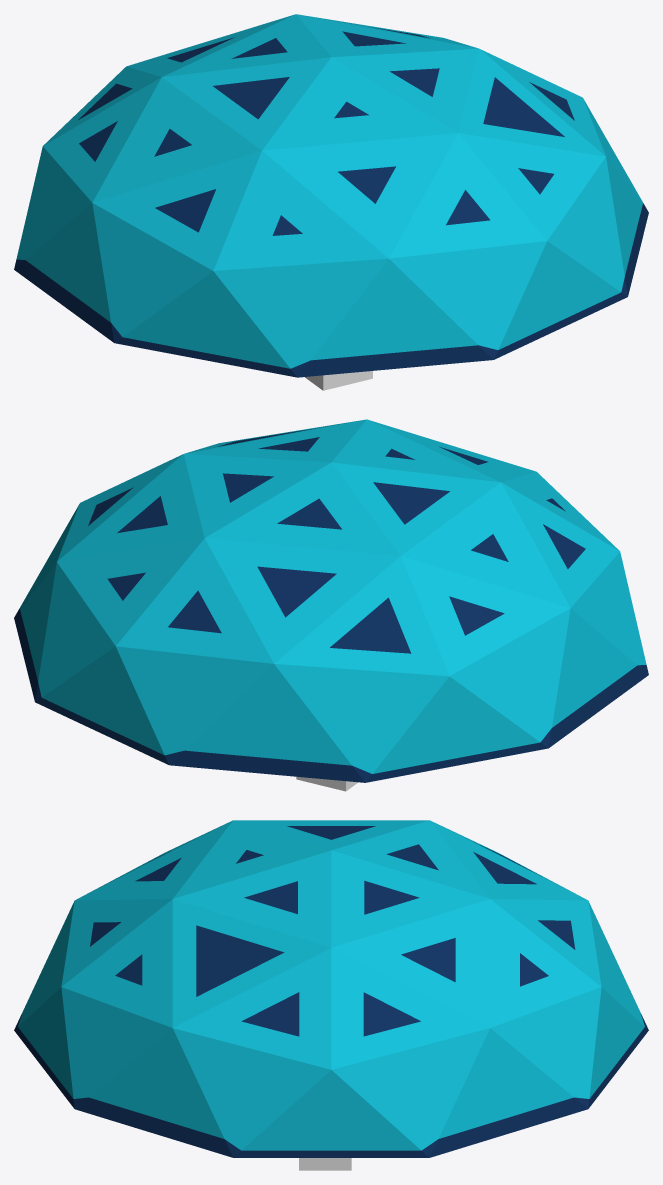
Rendered from cogumelo5.FBX.
The picture shows the model from 3 angles, top to bottom: view 1: azimuth 30°, elevation 25°; view 2: azimuth 150°, elevation 25°; view 3: azimuth 270°, elevation 25°; orthographic projection. The views are drawn at different scales.
Visible parts, largest first — view 1: cogumelo5cabeca, cogumelo5; view 2: cogumelo5cabeca; view 3: cogumelo5cabeca, cogumelo5.
Boxes of the visible parts, x1,y1,x2,y2 form: cogumelo5cabeca: [14, 14, 648, 377]; cogumelo5: [305, 371, 372, 390]; cogumelo5cabeca: [14, 419, 648, 782]; cogumelo5cabeca: [14, 820, 648, 1157]; cogumelo5: [299, 1158, 351, 1170].
Bounding box in the file's own units: 42.4 × 23.9 × 44.58.
